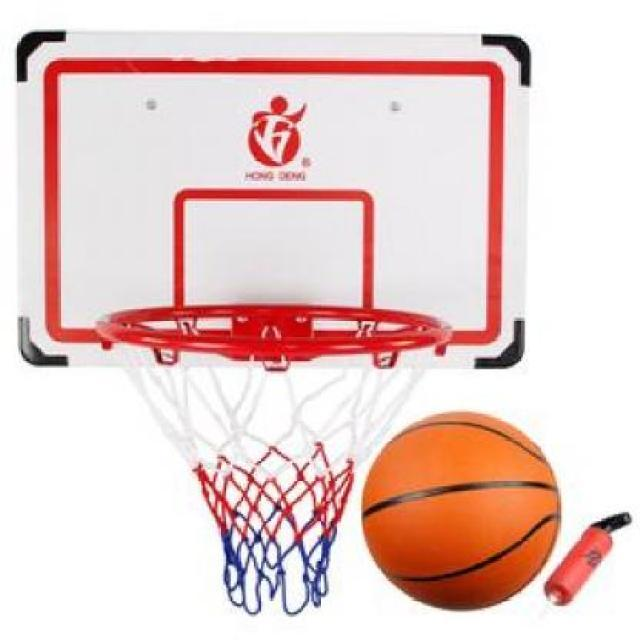basketball: (362, 409, 562, 617)
rim: (91, 304, 451, 608)
